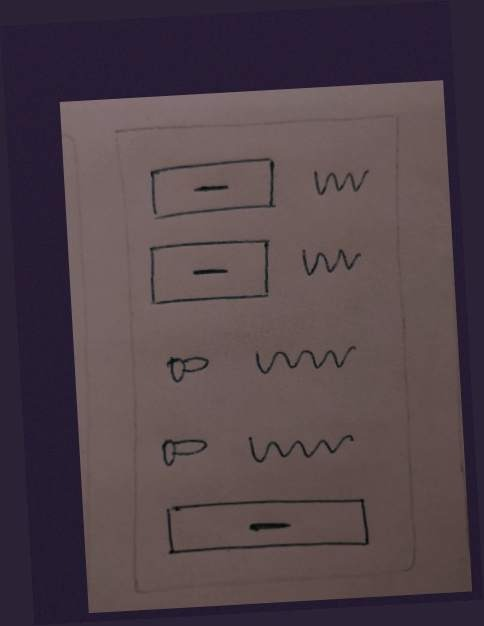button: (163, 486, 375, 568), (143, 233, 277, 315), (145, 151, 281, 223)
switch: (153, 430, 218, 476), (157, 343, 214, 386)
text: (238, 425, 363, 473), (251, 334, 357, 379), (290, 236, 366, 286), (303, 159, 372, 204)
